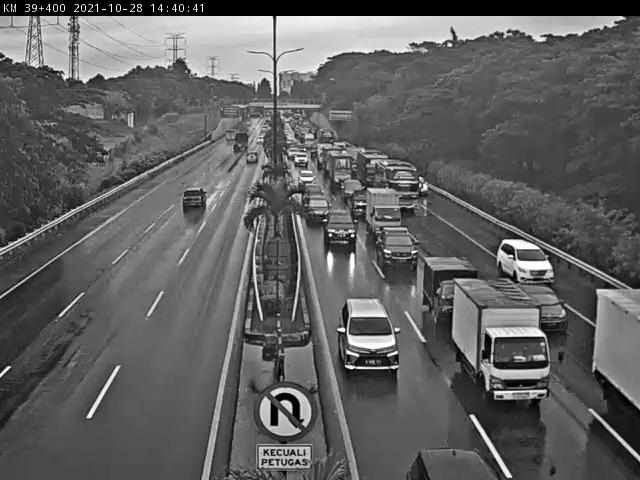big bus: (372, 161, 419, 207)
car: (338, 299, 399, 369), (514, 279, 567, 333), (496, 237, 554, 284), (376, 226, 419, 269), (323, 209, 355, 241), (304, 194, 329, 220), (181, 187, 205, 208), (348, 190, 368, 215), (299, 184, 323, 203), (339, 178, 360, 198)
small truck: (454, 276, 552, 406), (423, 255, 479, 317), (367, 190, 406, 235)
